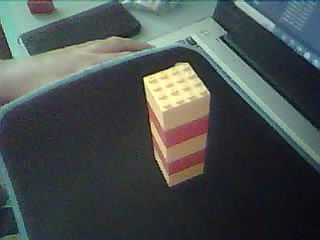lego: (143, 61, 211, 188)
